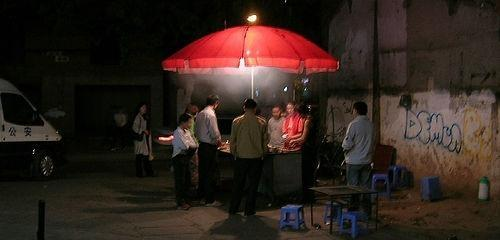car: (1, 74, 67, 181), (151, 114, 241, 161), (43, 106, 66, 120)
